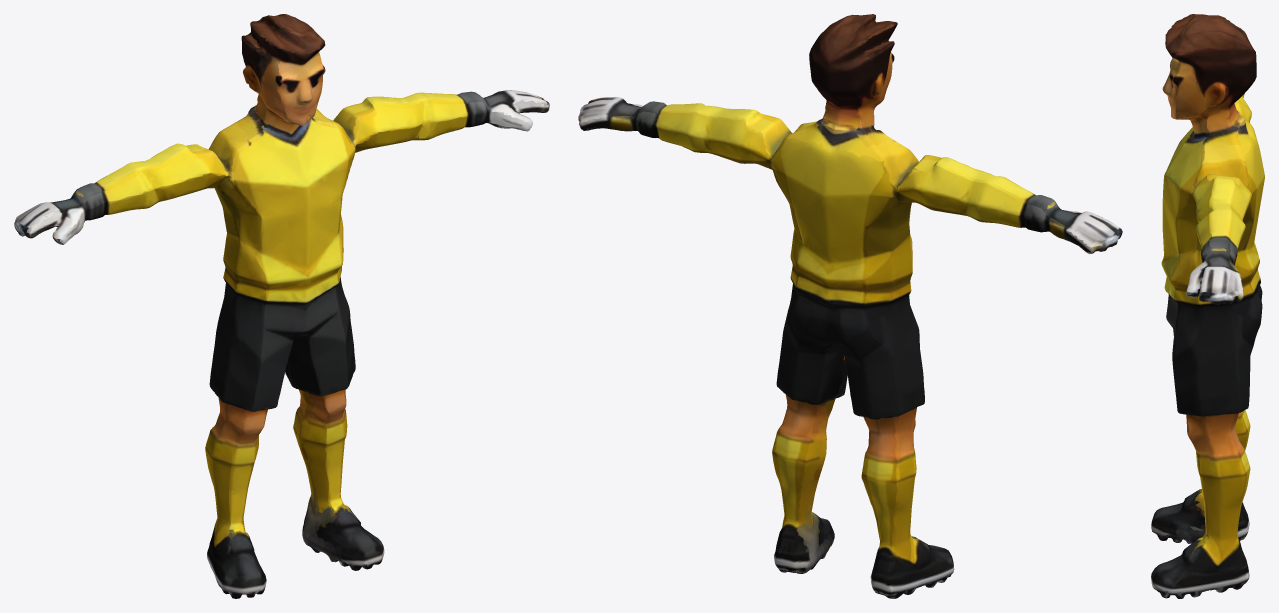
File: goalkeeper_textured_mesh.glb
3 views of the same model, side by side, from view 1: azimuth 30°, elevation 25°; view 2: azimuth 150°, elevation 25°; view 3: azimuth 270°, elevation 25° (orthographic). The views are drawn at different scales.
Parts seen in each view (by area): view 1: tmpkv7b157i.ply; view 2: tmpkv7b157i.ply; view 3: tmpkv7b157i.ply.
Boxes of the visible parts, bbox=[...] form: tmpkv7b157i.ply: bbox=[14, 14, 549, 598]; tmpkv7b157i.ply: bbox=[578, 14, 1122, 598]; tmpkv7b157i.ply: bbox=[1151, 14, 1264, 598].
Bounding box in the file's own units: 1.96 × 1.96 × 0.3735.
1 material, 1 textured.
